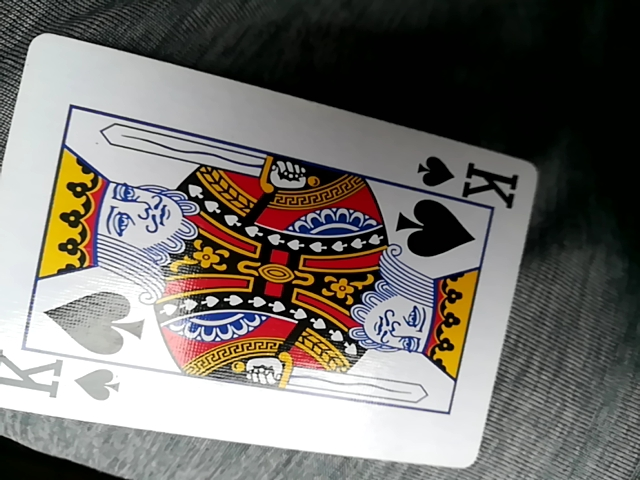ht k: (0, 36, 542, 473)
